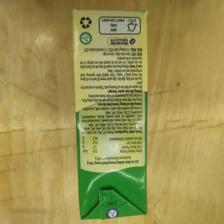NSPN_Hop: (68, 6, 150, 221)
